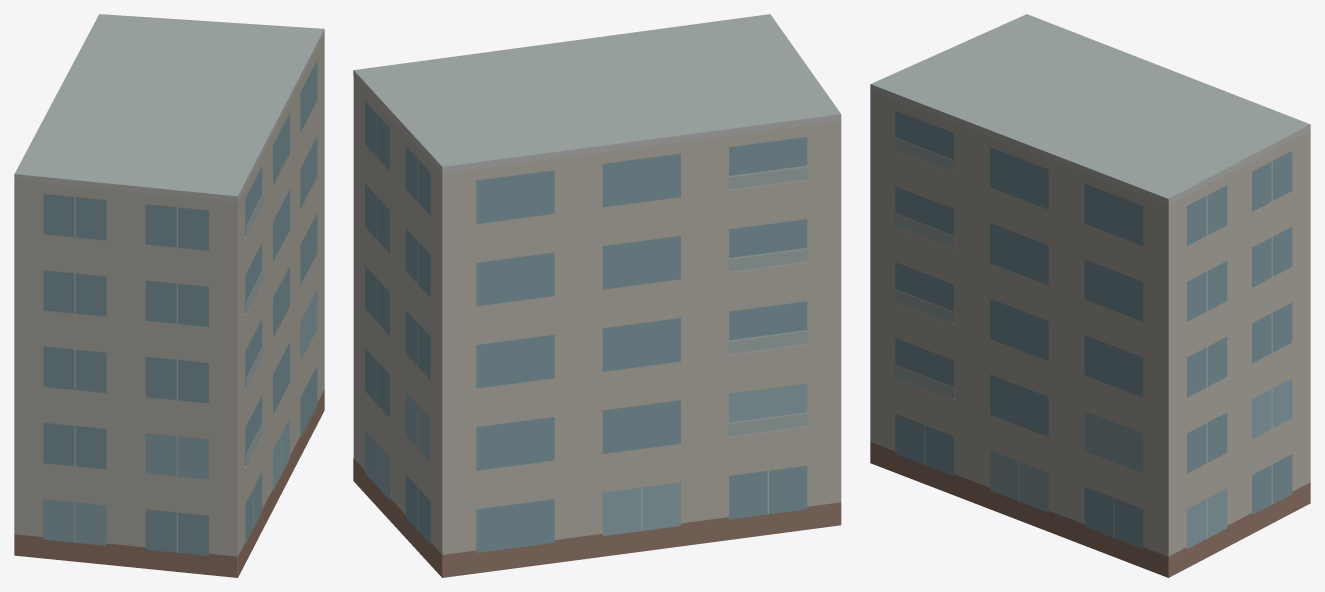
File: survey-upis-32646672.glb
The picture shows the model from 3 angles, left to right: view 1: azimuth 30°, elevation 25°; view 2: azimuth 150°, elevation 25°; view 3: azimuth 270°, elevation 25°; orthographic projection. The views are drawn at different scales.
Visible parts, largest first — view 1: survey-upis-32646672.tmp; view 2: survey-upis-32646672.tmp; view 3: survey-upis-32646672.tmp.
Boxes of the visible parts, box(x1,y1,x2,y2) form: survey-upis-32646672.tmp: box(14, 14, 324, 577); survey-upis-32646672.tmp: box(353, 14, 841, 577); survey-upis-32646672.tmp: box(870, 14, 1310, 577).
Bounding box in the file's own units: 15.96 × 15.25 × 16.06.
